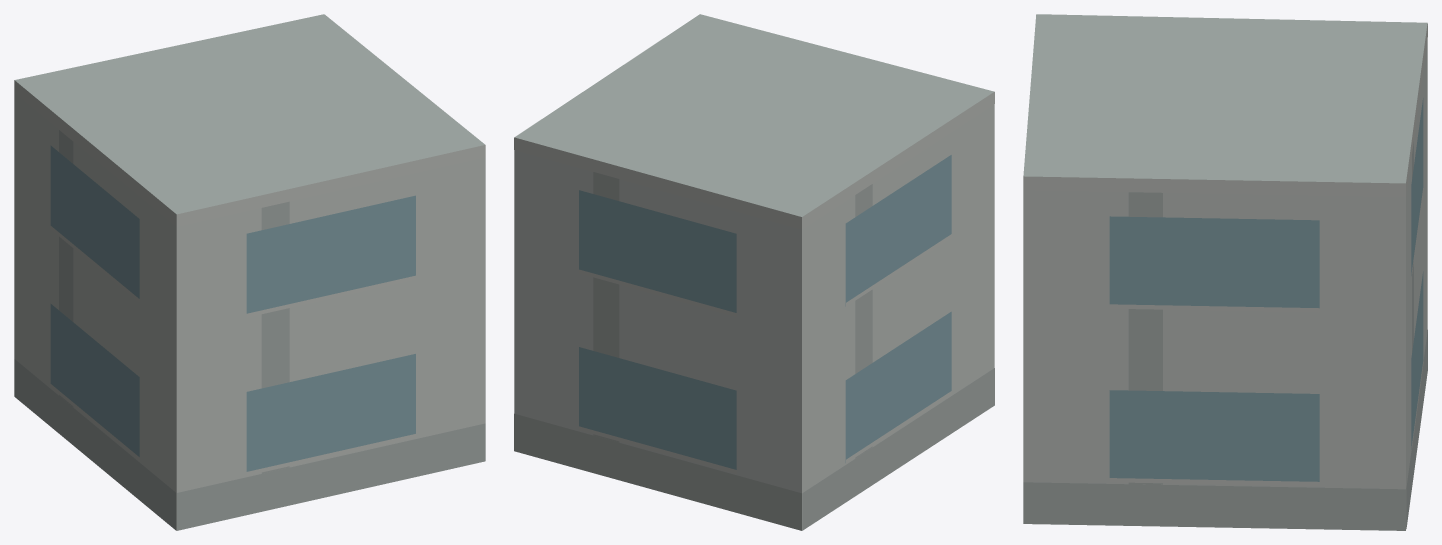
File: survey-upis-32988890.glb
3 views of the same model, side by side, from view 1: azimuth 30°, elevation 25°; view 2: azimuth 150°, elevation 25°; view 3: azimuth 270°, elevation 25° (orthographic). The views are drawn at different scales.
Visible parts, largest first — view 1: survey-upis-32988890.tmp; view 2: survey-upis-32988890.tmp; view 3: survey-upis-32988890.tmp.
Boxes of the visible parts, box(x1,y1,x2,y2) form: survey-upis-32988890.tmp: box(14, 14, 485, 530); survey-upis-32988890.tmp: box(514, 14, 994, 530); survey-upis-32988890.tmp: box(1023, 14, 1427, 530).
Size of the model in its own units: 6.39 by 6.1 by 6.45.
